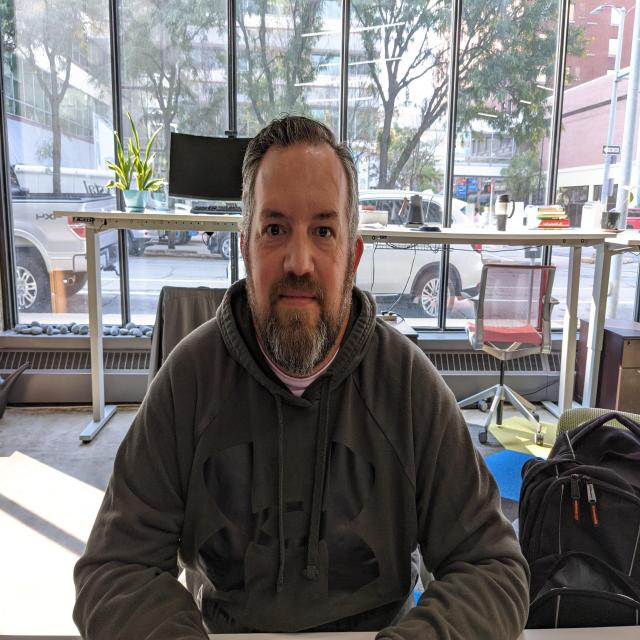face: (244, 164, 355, 378)
